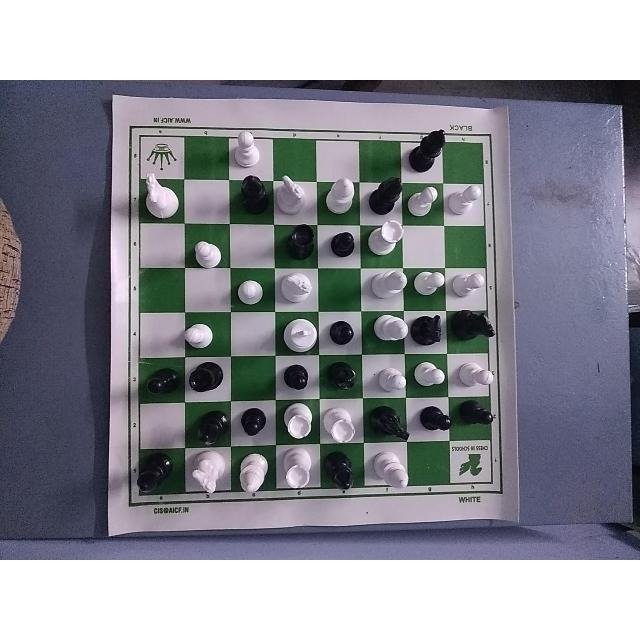black-bishop: (229, 172, 273, 220), (135, 448, 175, 499), (415, 123, 451, 172), (323, 447, 359, 496), (366, 171, 406, 215), (194, 404, 228, 449), (324, 359, 361, 399)
black-knight: (449, 309, 501, 350), (413, 307, 451, 352), (369, 406, 415, 442)
black-pawn: (277, 359, 325, 401), (408, 400, 457, 440), (454, 397, 500, 439), (138, 365, 183, 405), (232, 407, 276, 443), (325, 317, 357, 353), (328, 230, 360, 263)
black-rook: (185, 360, 229, 400), (279, 222, 321, 262)
white-bishop: (369, 269, 413, 312), (317, 176, 356, 223), (233, 452, 271, 500), (371, 449, 413, 489), (369, 315, 412, 349)
white-king: (279, 319, 322, 359)
white-knight: (137, 170, 183, 225), (186, 451, 230, 497), (275, 173, 311, 220), (279, 271, 317, 308)
white-pawn: (229, 125, 273, 167), (182, 316, 218, 358), (409, 268, 448, 306), (408, 358, 448, 393), (455, 359, 497, 392), (377, 363, 413, 396), (449, 270, 483, 304), (235, 276, 273, 306), (191, 236, 229, 264), (450, 185, 481, 219), (408, 187, 440, 217)
white-rook: (275, 450, 318, 493), (366, 220, 410, 260), (321, 405, 361, 446), (279, 406, 318, 442)
